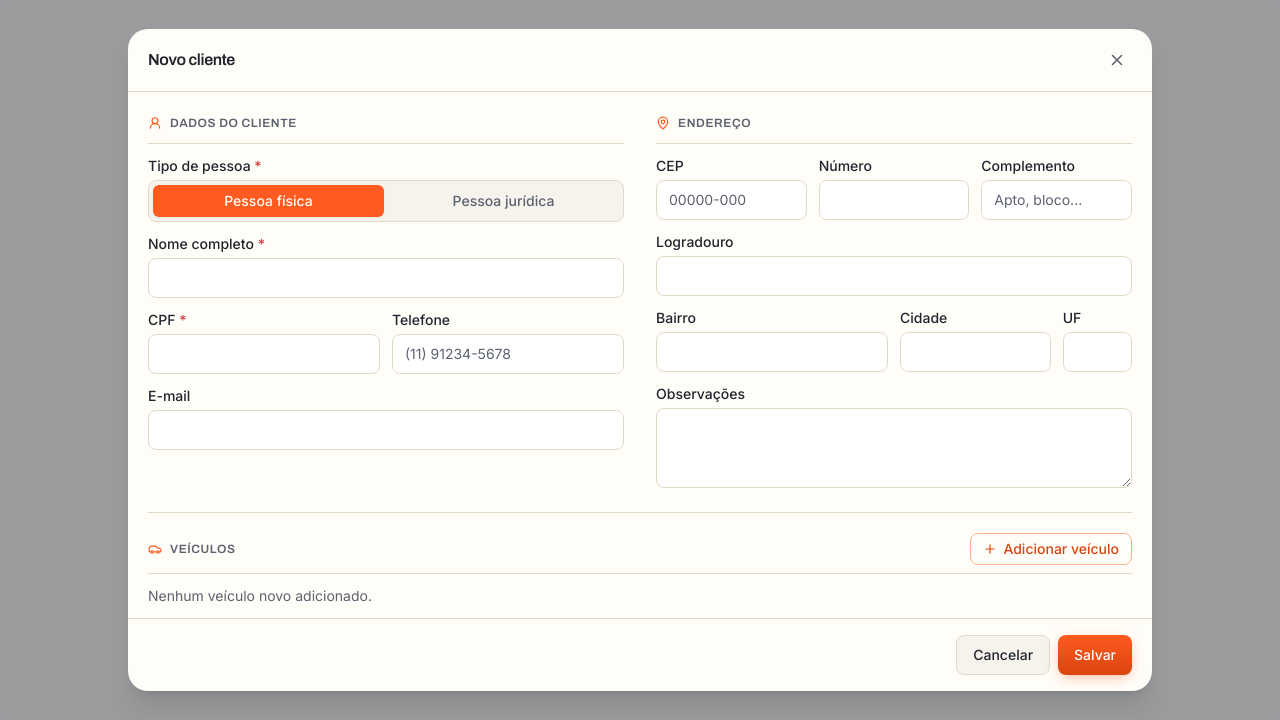
it: ClienteFormModal › relabels to Razão social/CNPJ when switching to pessoa jurídica
Click the radio button labelled "Pessoa jurídica" at (504,201), box [388, 185, 619, 217]
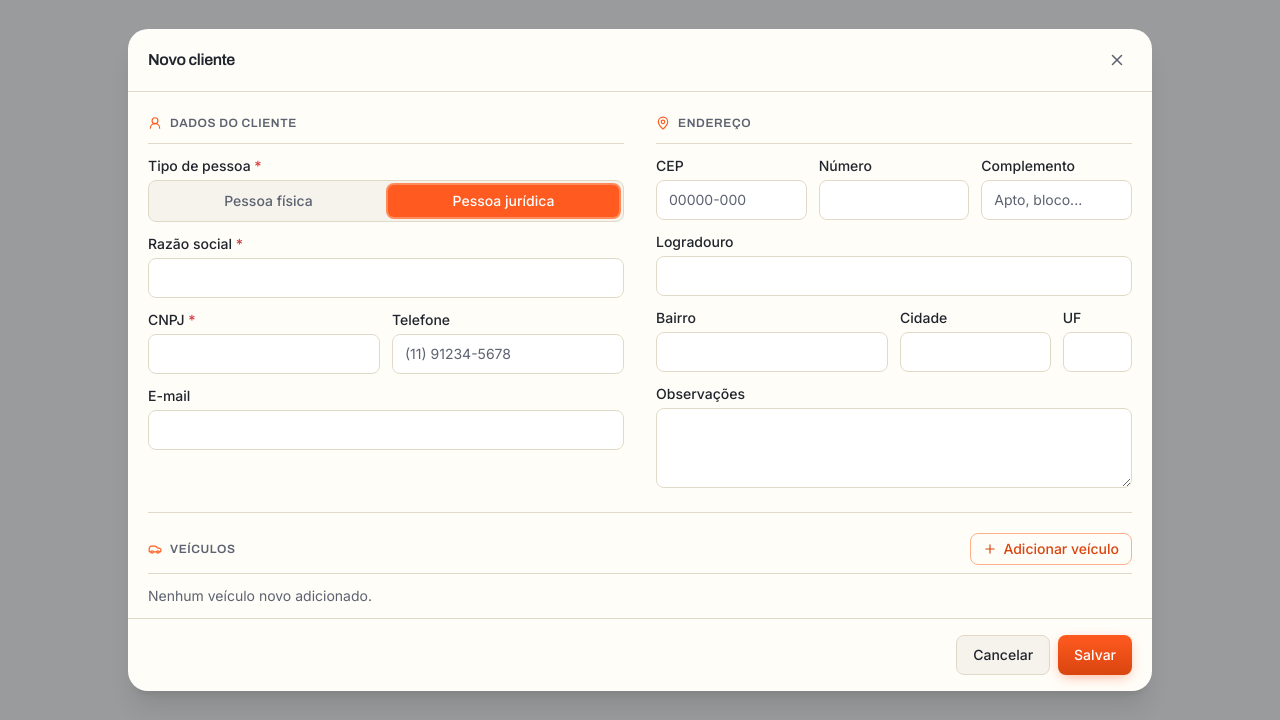
Expected: the text "Razão social" is shown, [148, 235, 232, 252]
Expected: the text "CNPJ" is shown, [148, 311, 184, 328]
